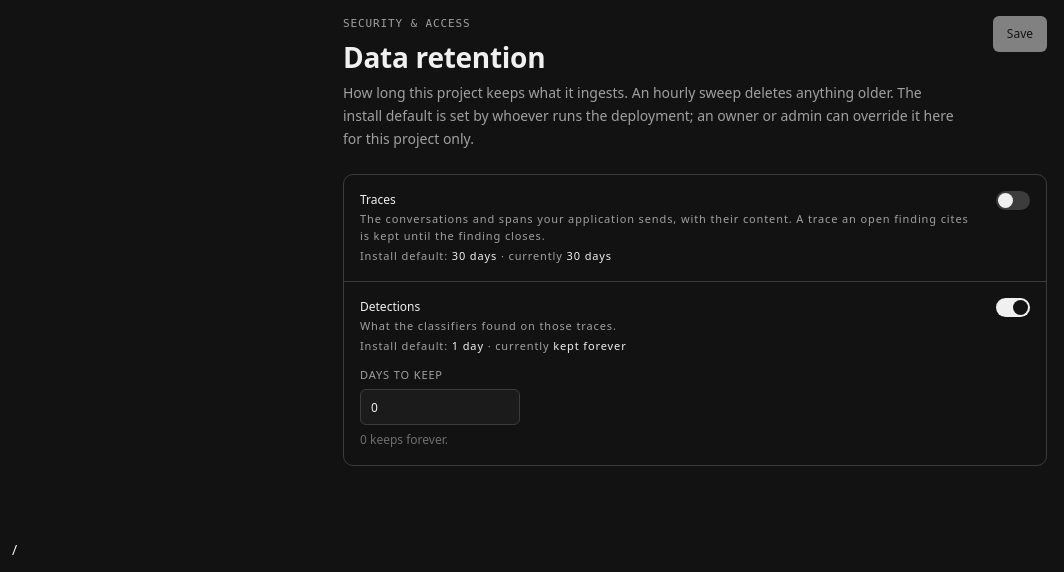
it: saving › refuses a value that is not a whole number of days up to a hundred years
expect the text "Traces" is shown: met, box [360,191,396,208]
Clear the field labelled "Days to keep" at (440, 407), box [360,389,520,425]
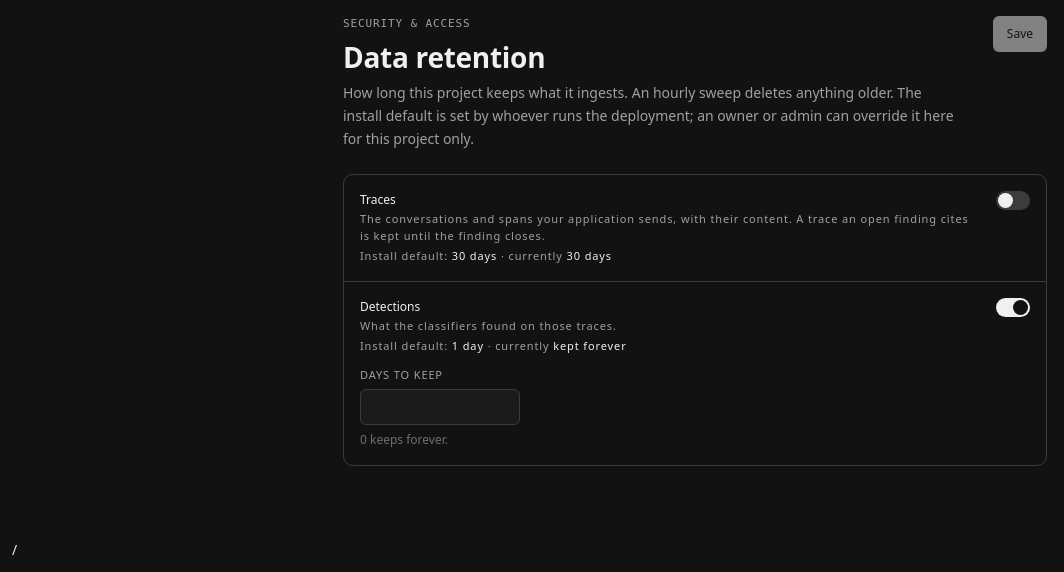
expect the button "Save" is disabled: met, box [993,16,1047,52]
Type "abc" into the field labelled "Days to keep" at (440, 407), box [360,389,520,425]
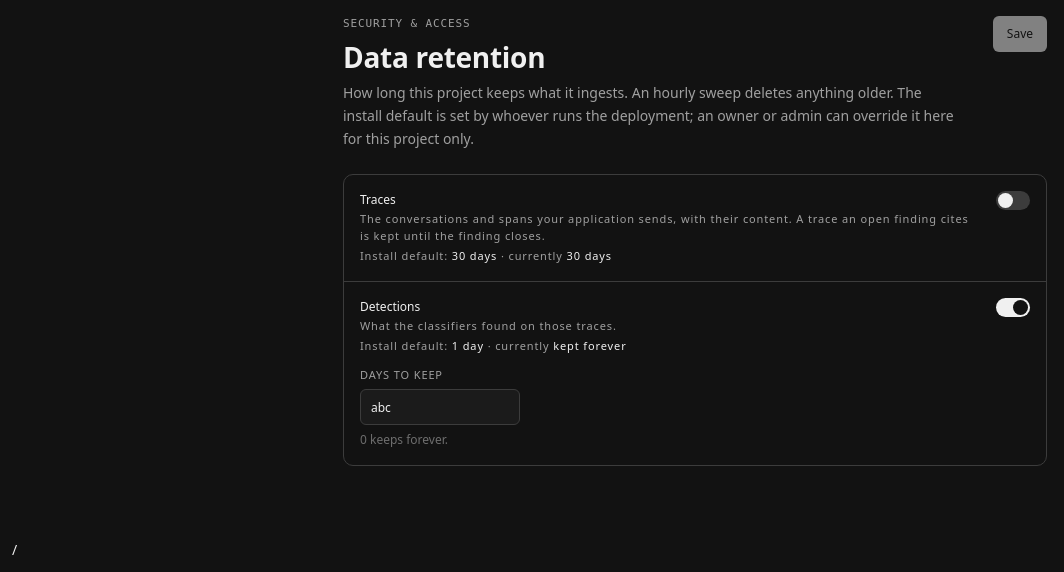
expect the button "Save" is disabled: met, box [993,16,1047,52]
Replace the text in the field labelled "Days to keep" with "-1" at (440, 407), box [360,389,520,425]
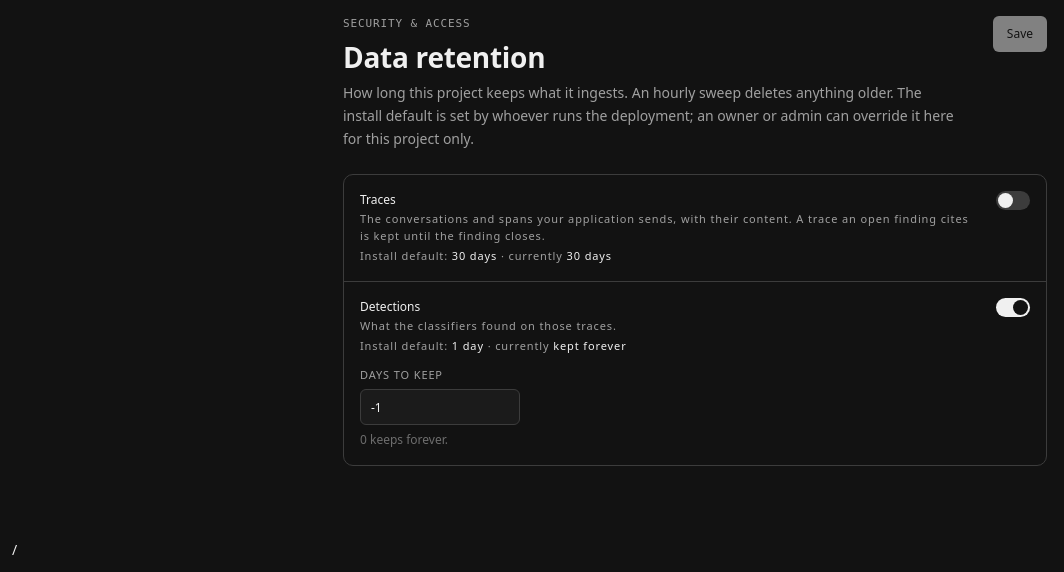
expect the button "Save" is disabled: met, box [993,16,1047,52]
Replace the text in the field labelled "Days to keep" with "1.5" at (440, 407), box [360,389,520,425]
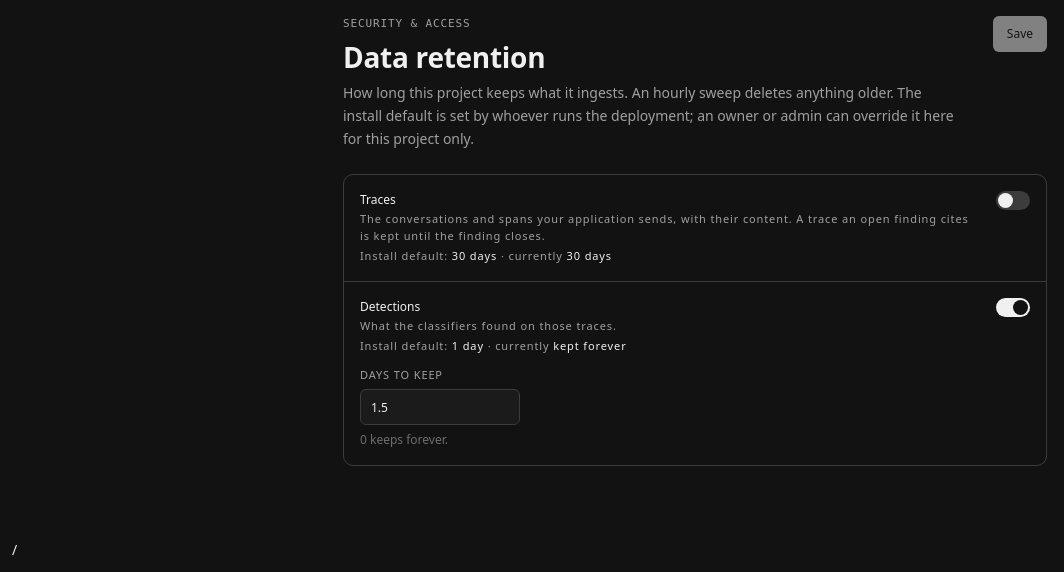
expect the button "Save" is disabled: met, box [993,16,1047,52]
Replace the text in the field labelled "Days to keep" with "36501" at (440, 407), box [360,389,520,425]
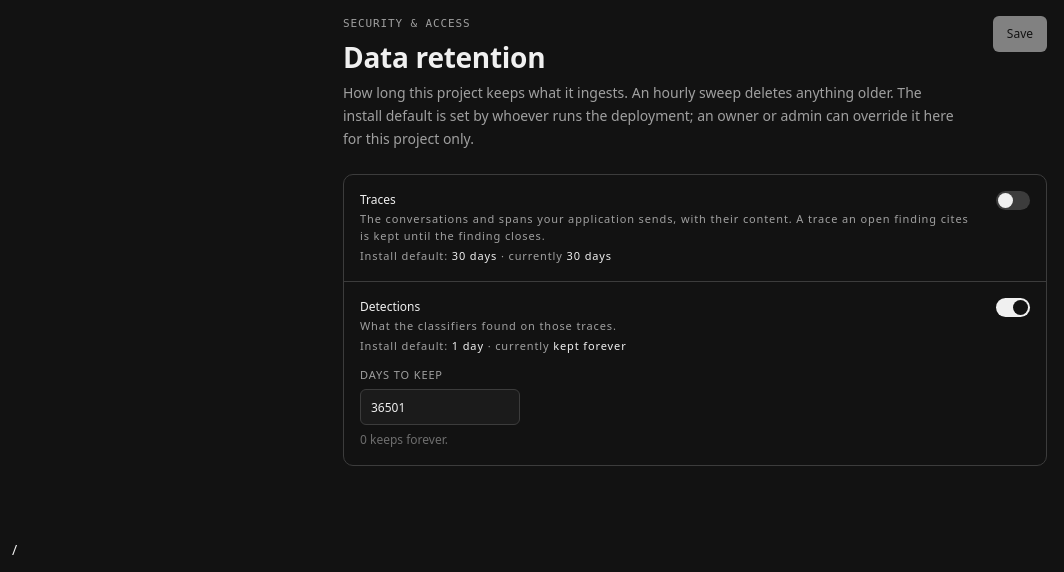
expect the button "Save" is disabled: met, box [993,16,1047,52]
Replace the text in the field labelled "Days to keep" with "36500" at (440, 407), box [360,389,520,425]
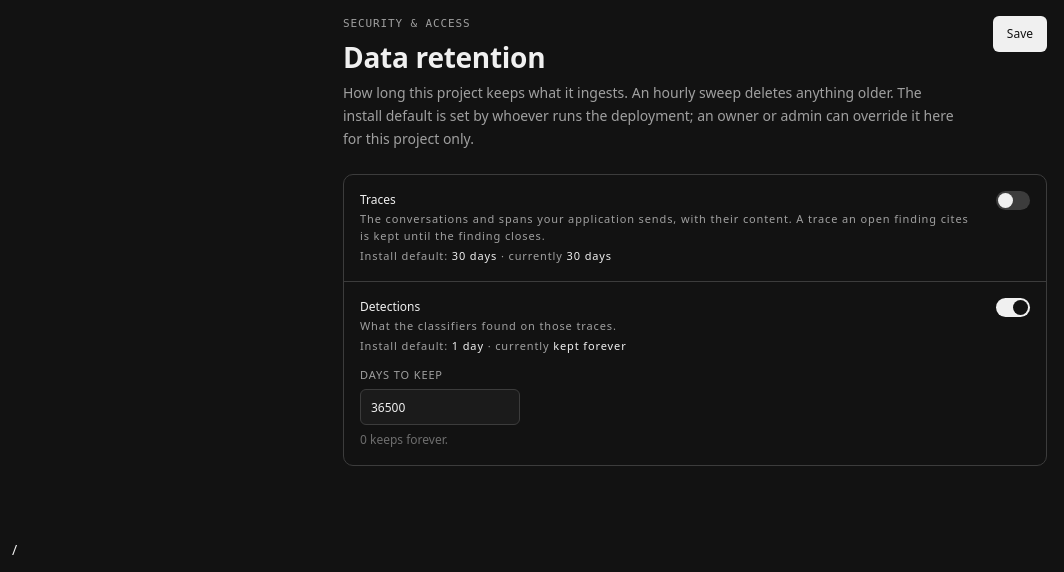
expect the button "Save" is enabled: met, box [993,16,1047,52]
